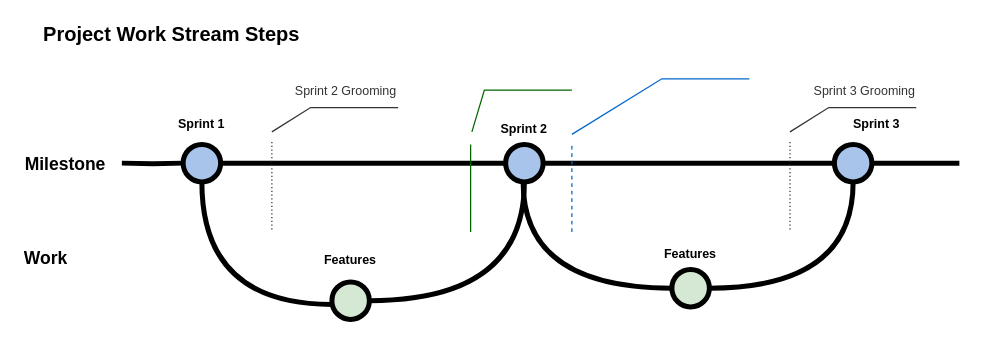
This 984x343 diagram has some shape labels left out. The centre of each missing label's shape, as x and y in pixels:
Sprint 1 Deploy: point 660,90
Sprint 1 Review: point 521,94
